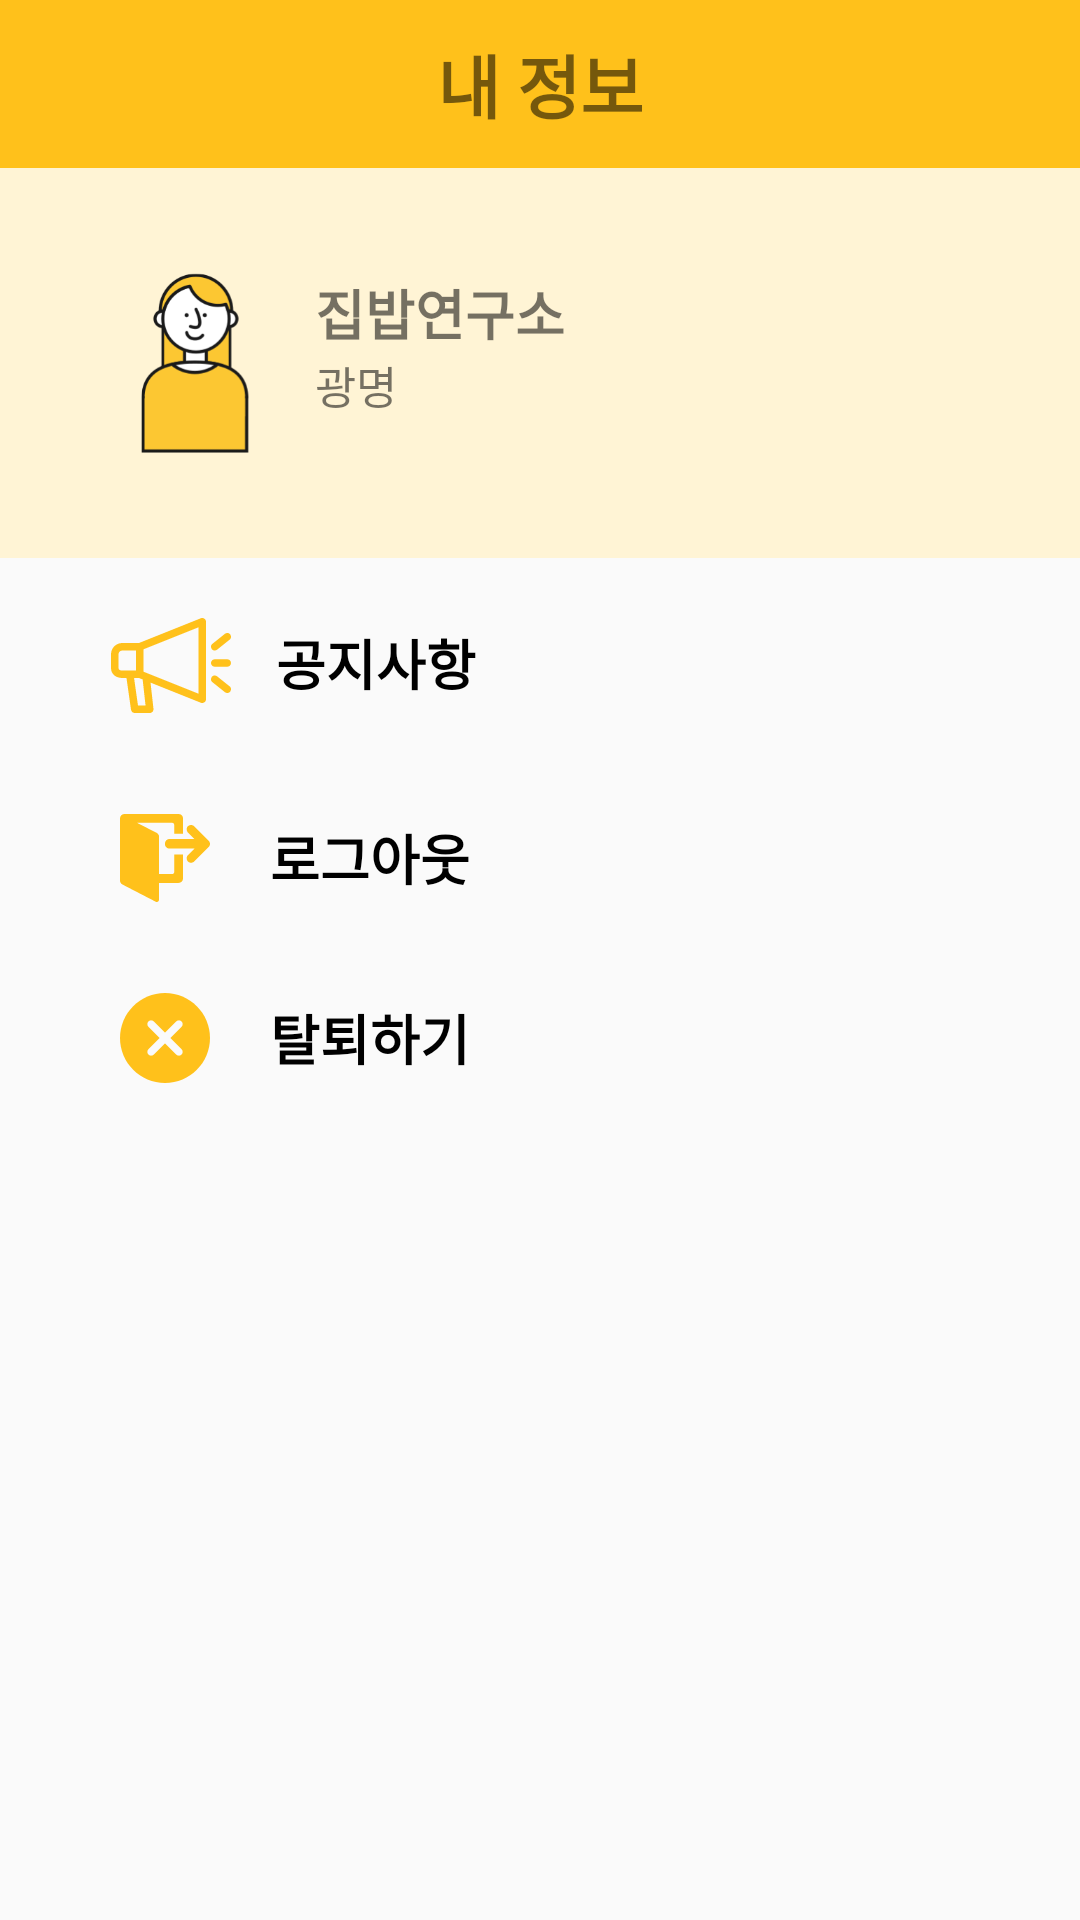

Named icons in this screenshot (1080x1920) and their centers, point (x, y):
person: point (195, 363)
